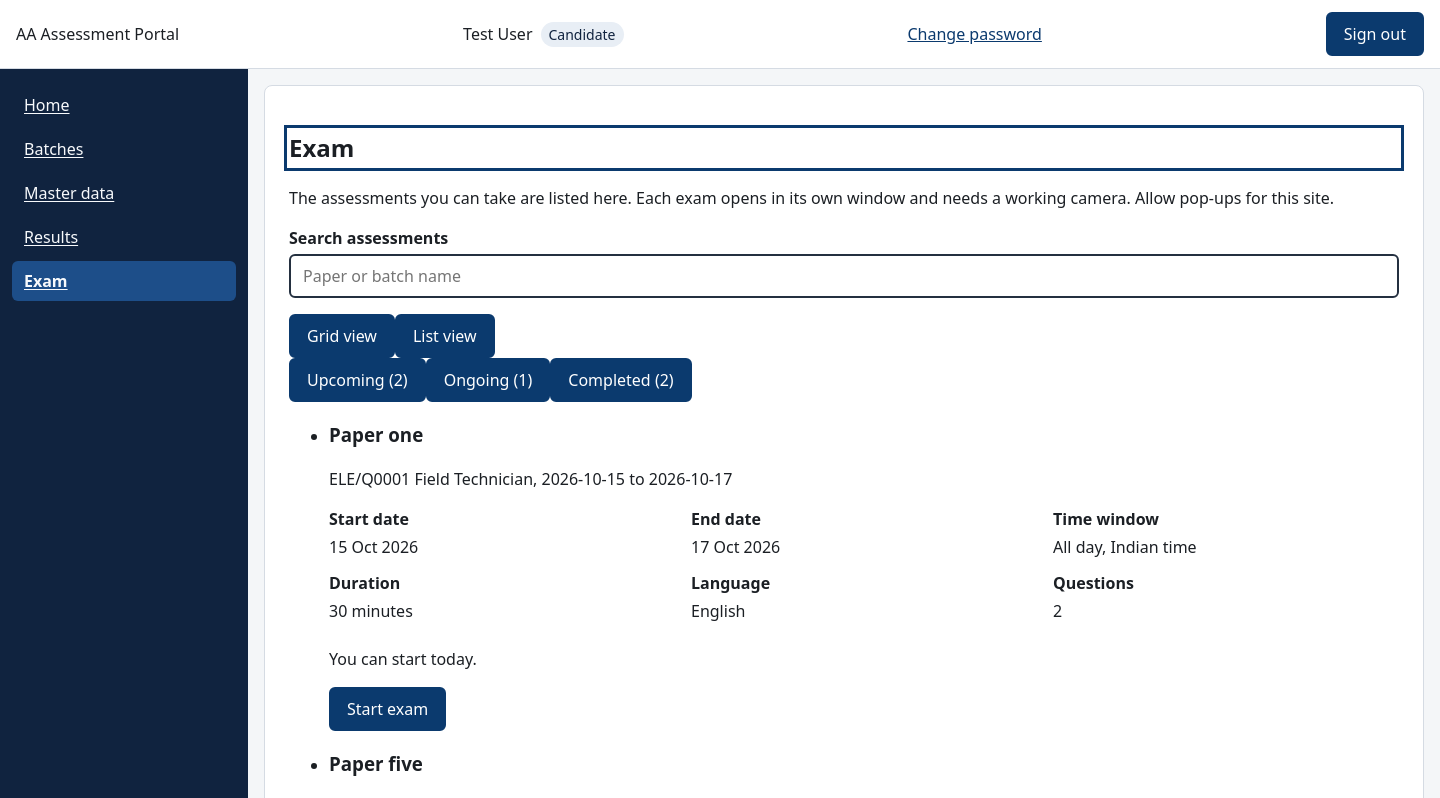
it: shows paper, batch, dates, time window and duration on each card, with one button per state
The image size is (1440, 798).
Expected: the heading "Paper one" is shown, [329, 422, 423, 446]
Expected: the text "ELE/Q0001 Field Technician, 2026-10-15 to 2026-10-17" is shown, [329, 468, 732, 490]
Click the tab "Ongoing (1)". click: (488, 380)
box: [426, 358, 550, 402]
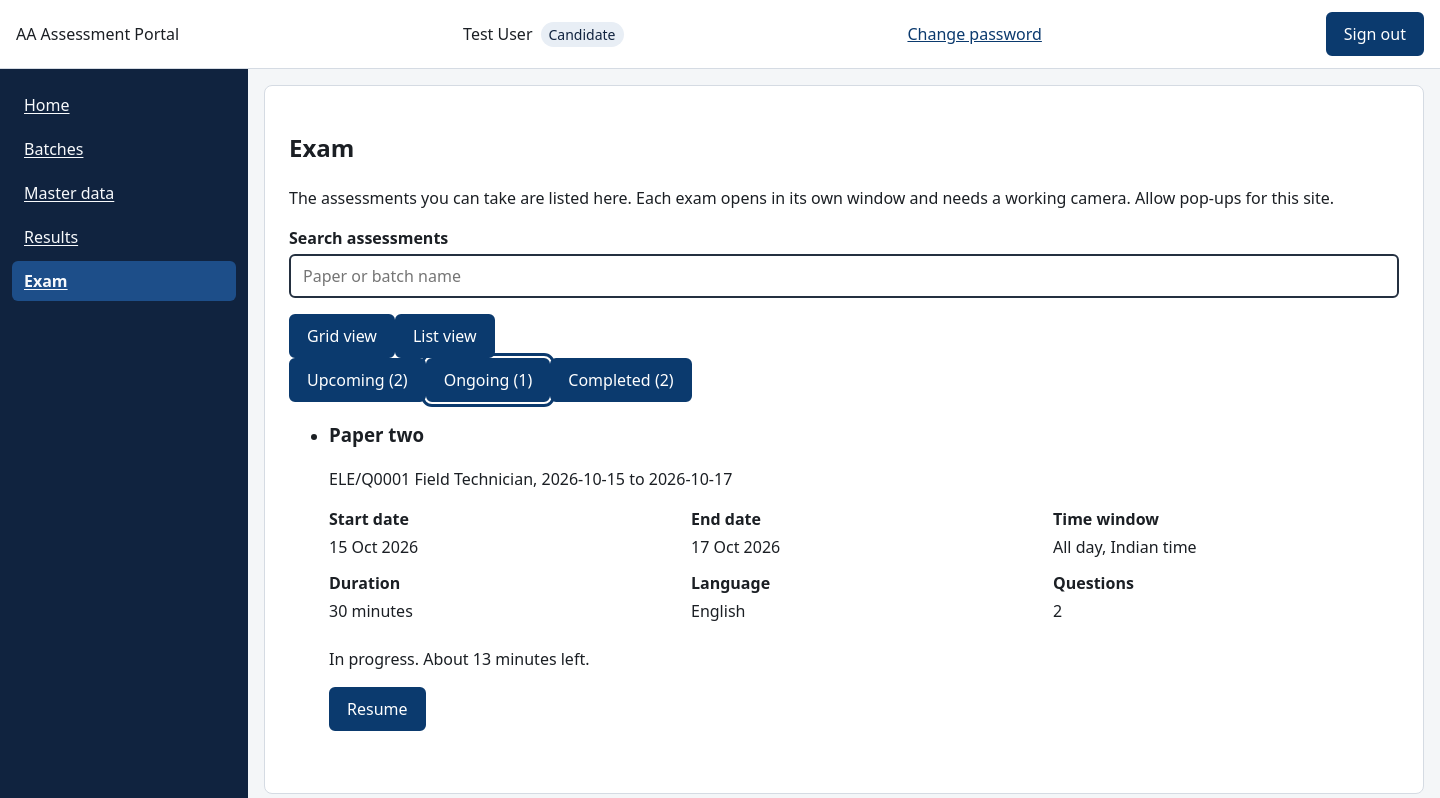
Now the text "In progress. About 13 minutes left." is shown, box [329, 648, 590, 670]
Now the button named "Resume Paper two" is enabled, box [329, 687, 426, 731]
Click the tab "Completed (2)". click: (621, 380)
box: [550, 358, 692, 402]
(page scrolled)
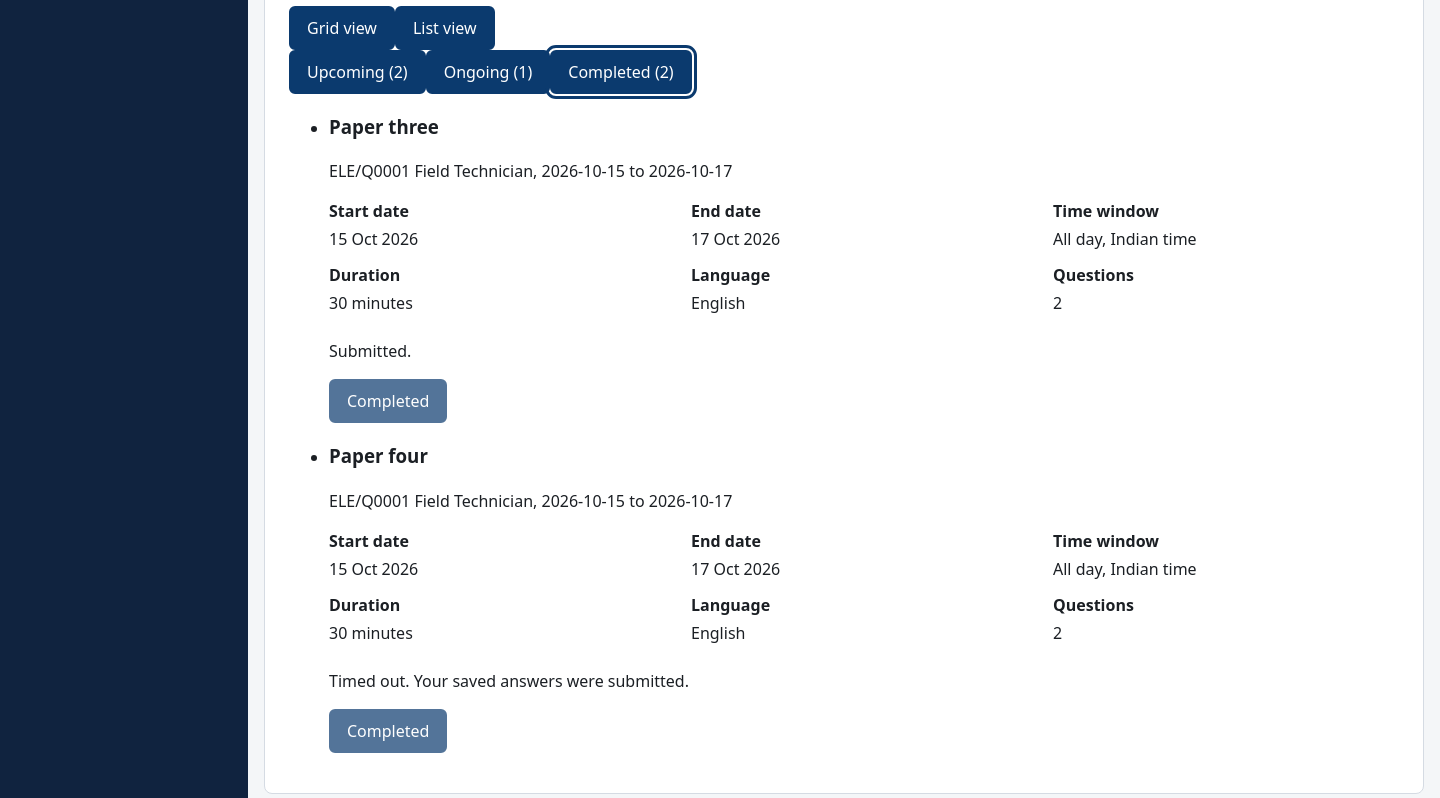
Now the text "Submitted." is shown, box [329, 340, 411, 362]
Now the button named "Completed Paper three" is disabled, box [329, 379, 447, 423]
Now the text "Timed out. Your saved answers were submitted." is shown, box [329, 670, 689, 692]
